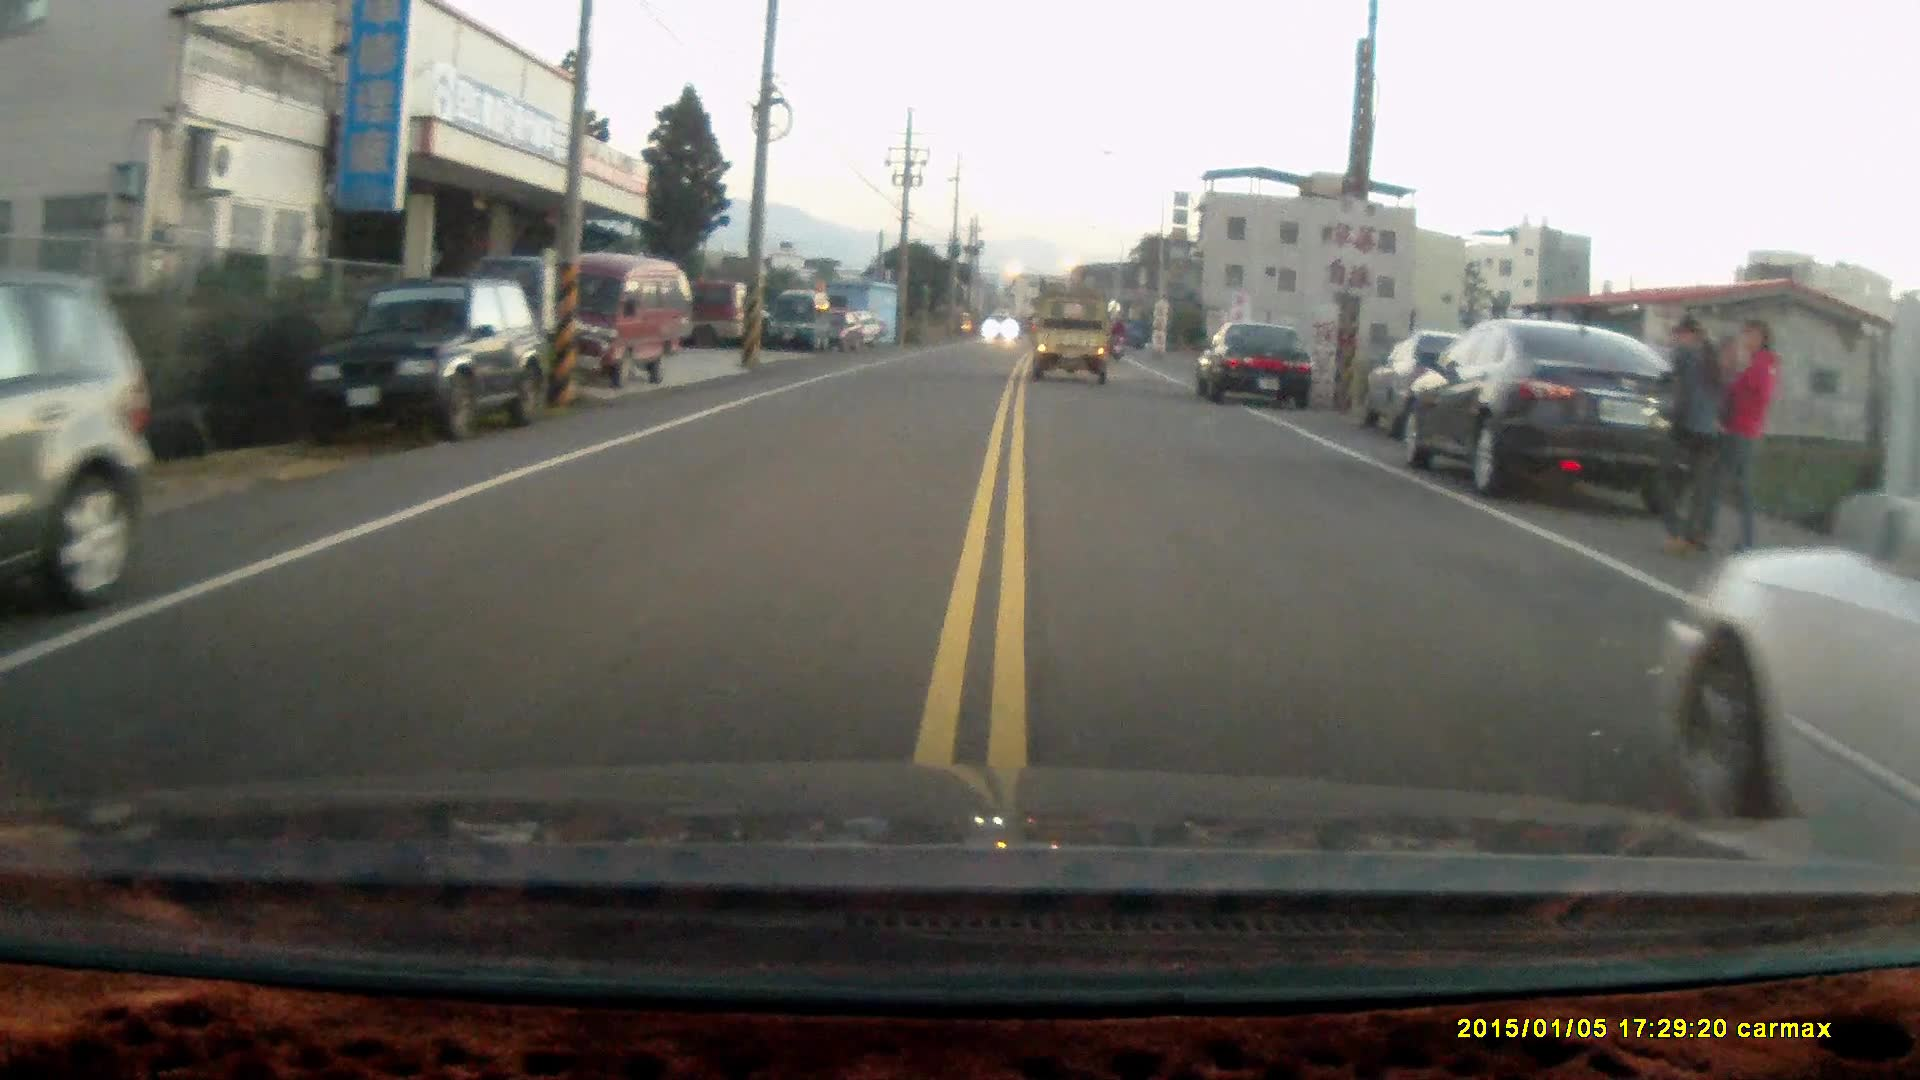pedestrian: (1645, 313, 1727, 555), (1708, 313, 1781, 551)
vehicle: (1662, 440, 1920, 843), (1396, 317, 1722, 501), (3, 270, 158, 604), (310, 276, 544, 446), (522, 251, 697, 384), (1195, 316, 1317, 406), (1033, 290, 1119, 386), (766, 290, 837, 351)
